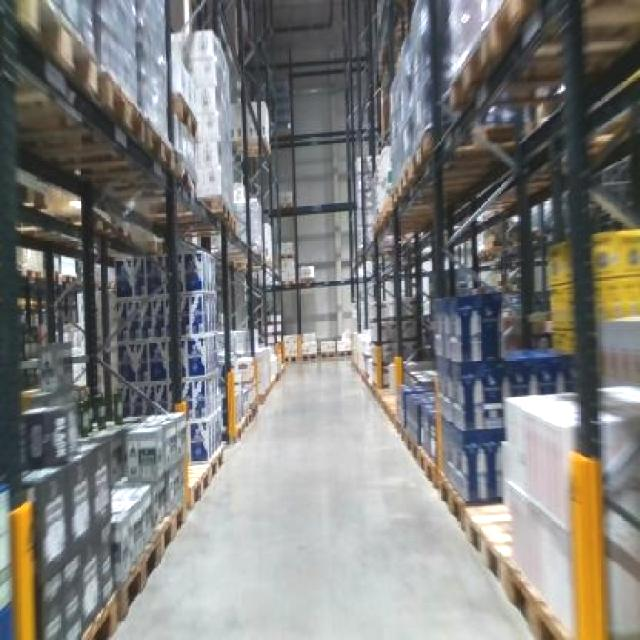pallets: (502, 392, 575, 631), (598, 386, 637, 515), (605, 511, 637, 637)
